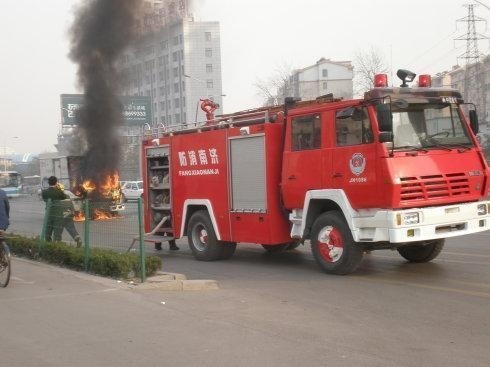fire: (72, 174, 123, 220)
